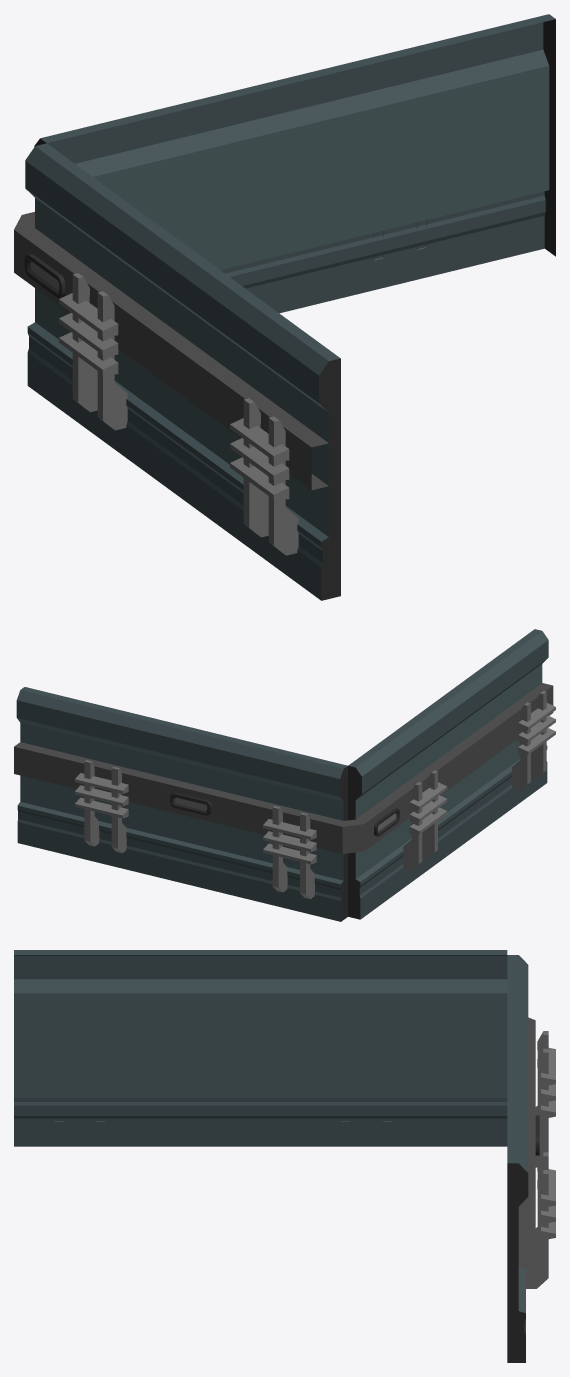
The model's file is SM_wall_front_angle_01.fbx.
3 views of the same model, one above another, from view 1: azimuth 30°, elevation 25°; view 2: azimuth 150°, elevation 25°; view 3: azimuth 270°, elevation 25° (orthographic). The views are drawn at different scales.
Visible parts, largest first — view 1: SM_wall_front_angle_01; view 2: SM_wall_front_angle_01; view 3: SM_wall_front_angle_01.
Boxes of the visible parts, x1,y1,x2,y2 form: SM_wall_front_angle_01: (14,14,555,600); SM_wall_front_angle_01: (14,629,555,921); SM_wall_front_angle_01: (14,950,555,1362).
Bounding box in the file's own units: 330 × 134 × 330.
Materials: 2 (2 with a texture image).
